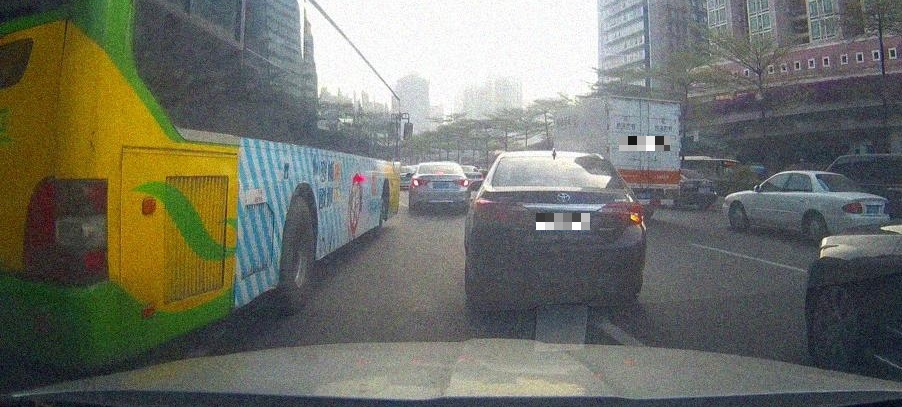L_light: (475, 201, 527, 225), (842, 203, 862, 213), (412, 179, 427, 187)
R_light: (600, 201, 643, 227), (454, 179, 469, 186), (883, 203, 890, 214)
T_light: (546, 181, 575, 187), (433, 171, 443, 175), (827, 174, 835, 177)
day-brake: (411, 162, 470, 212)
day-no: (815, 171, 891, 245)
day-right: (472, 151, 646, 308)
plate_1: (536, 213, 590, 230)
plate_2: (619, 136, 670, 151)
